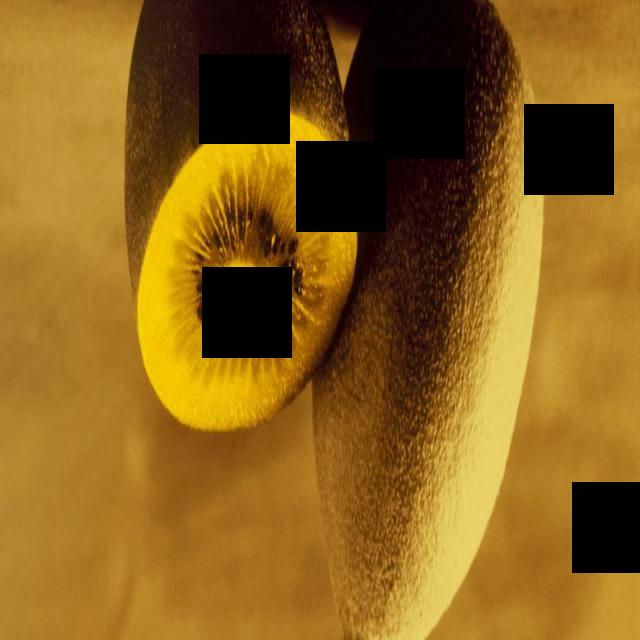kiwi: (310, 2, 548, 637)
